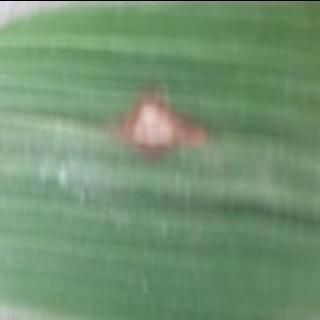Blast: (113, 89, 218, 162)
